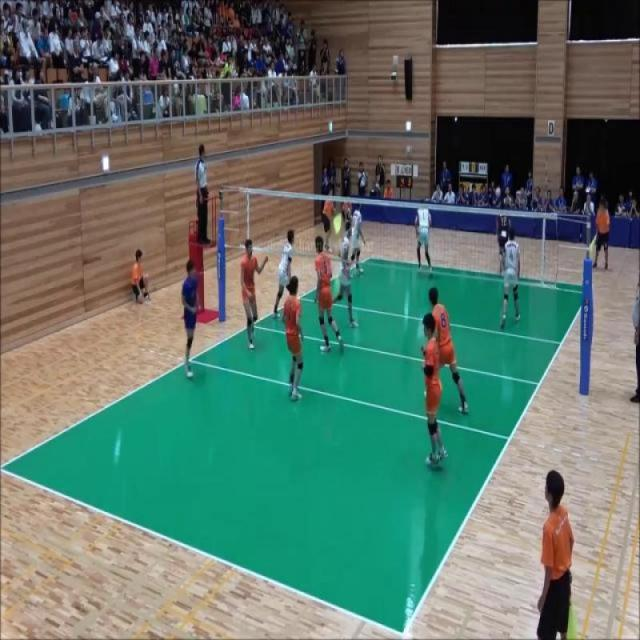volleyball: (496, 186, 501, 198)
